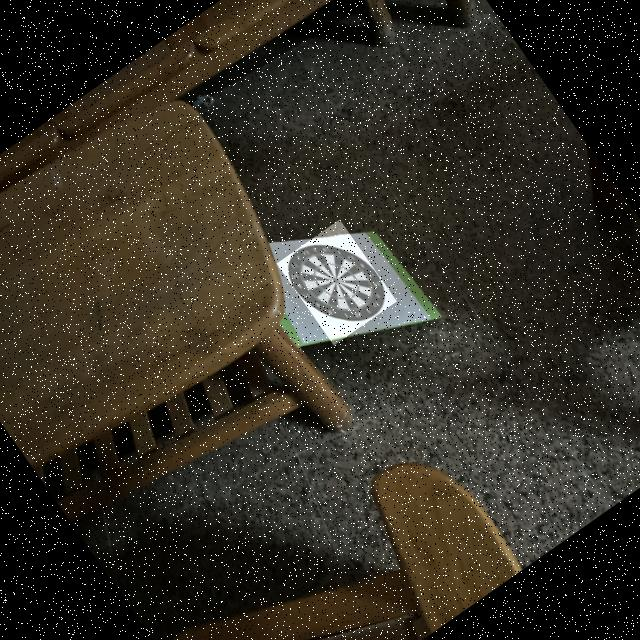archery-targets: (276, 218, 396, 344)
